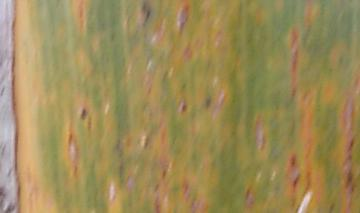tarspot: (138, 1, 152, 28), (290, 172, 303, 188), (78, 106, 88, 123), (288, 152, 298, 168), (203, 95, 212, 112), (179, 100, 188, 114), (347, 137, 355, 152), (160, 169, 168, 180)
